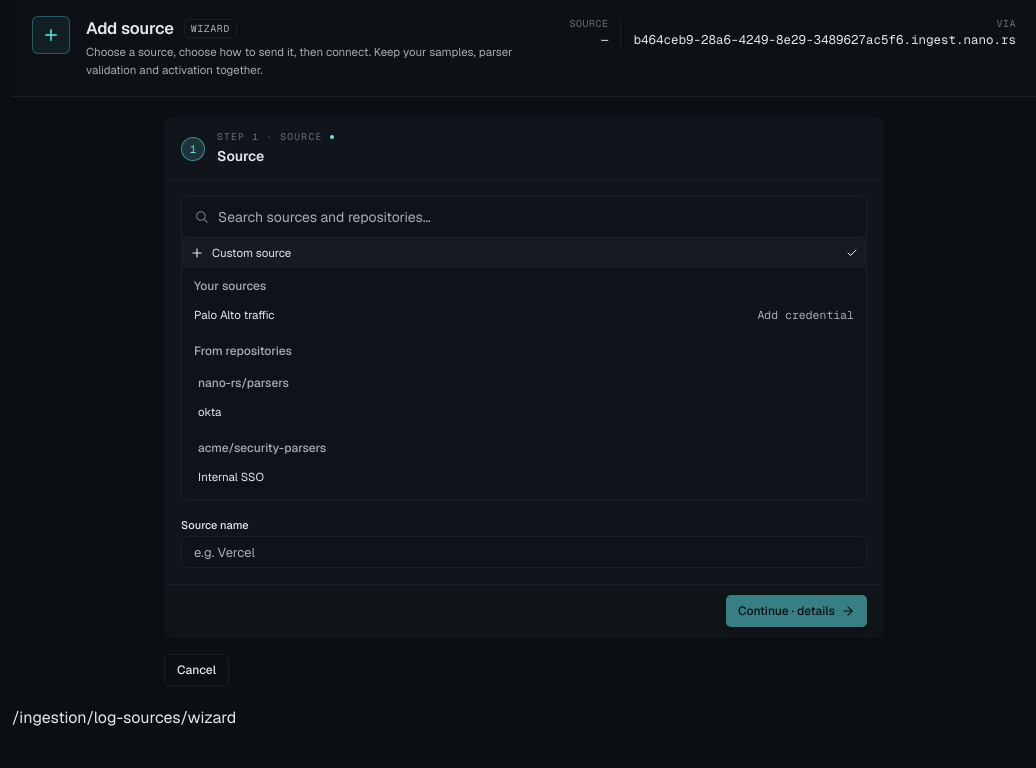
Test: AddFeed → Add data (NAN-2593) › groups existing sources and repository entries and navigates to existing source credentials without creating a duplicate
This screenshot has width=1036, height=768.
Expected: the option "okta" is shown, [198,404,221,419]
Expected: the text "Your sources" is shown, [194,278,266,294]
Click the option "Palo Alto traffic Add credential" at x=234, y=314, box [194,307,854,322]
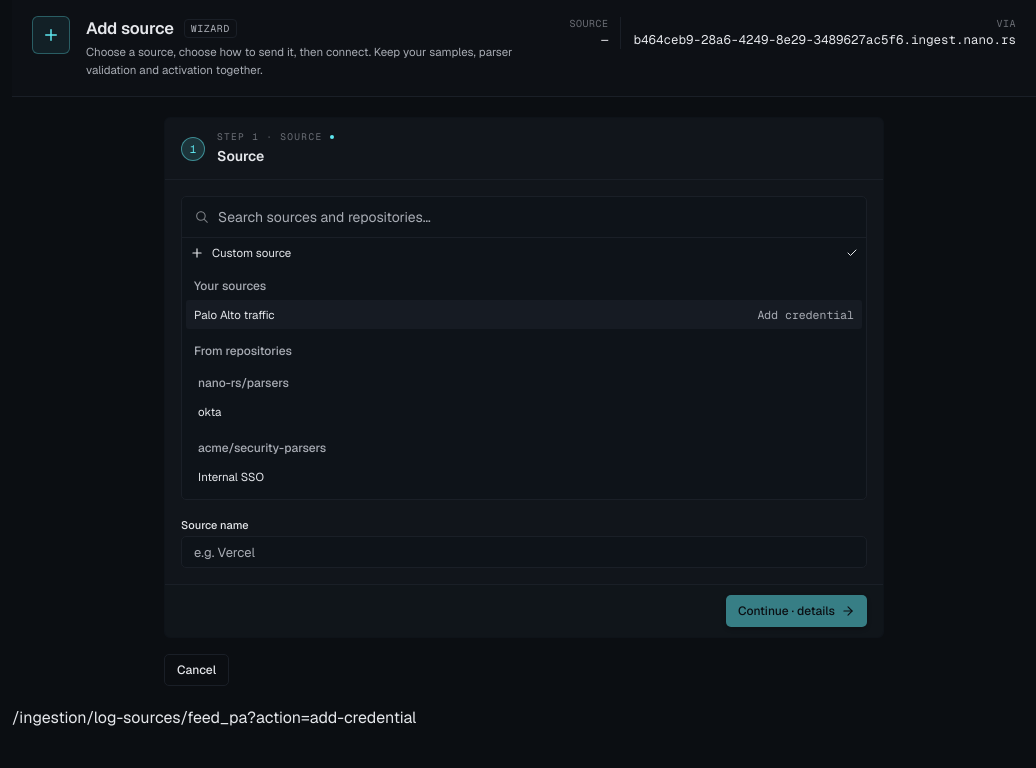
Now the text with test id "location" reads "/ingestion/log-sources/feed_pa?action=add-credential", box [12,707,416,728]
